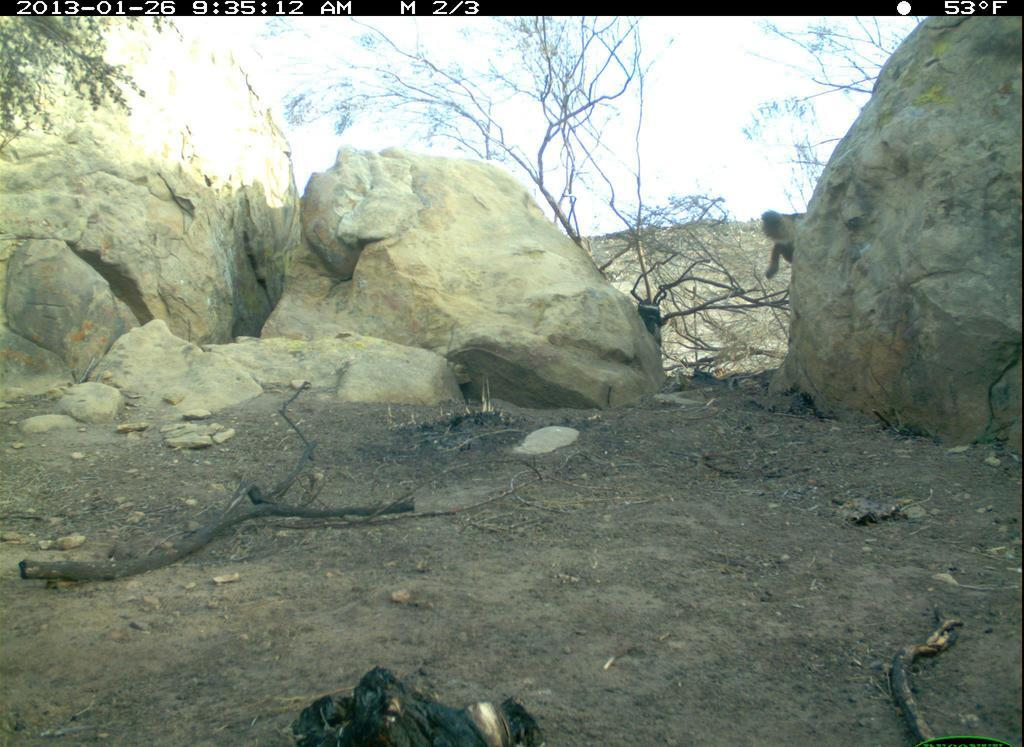coyote: (741, 200, 811, 286)
